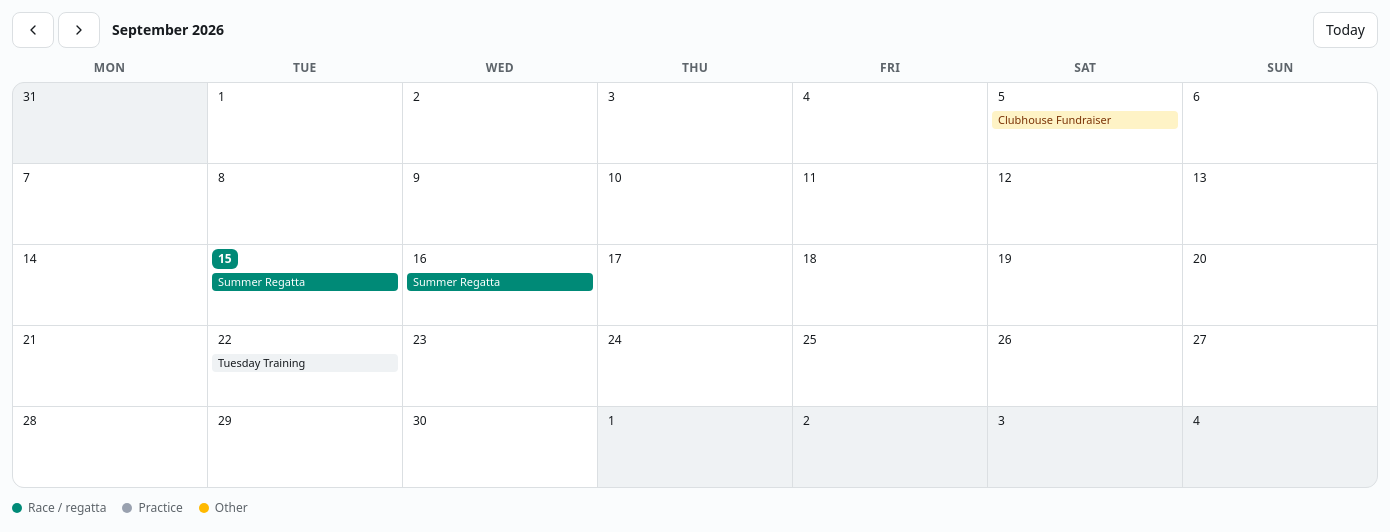
Test: EventsCalendar › shows only the month on screen, and navigates to the next
This screenshot has width=1390, height=532.
Expected: the link "October Cup" is not shown
Click the button named "Next month" at [79, 30], box [58,12,100,48]
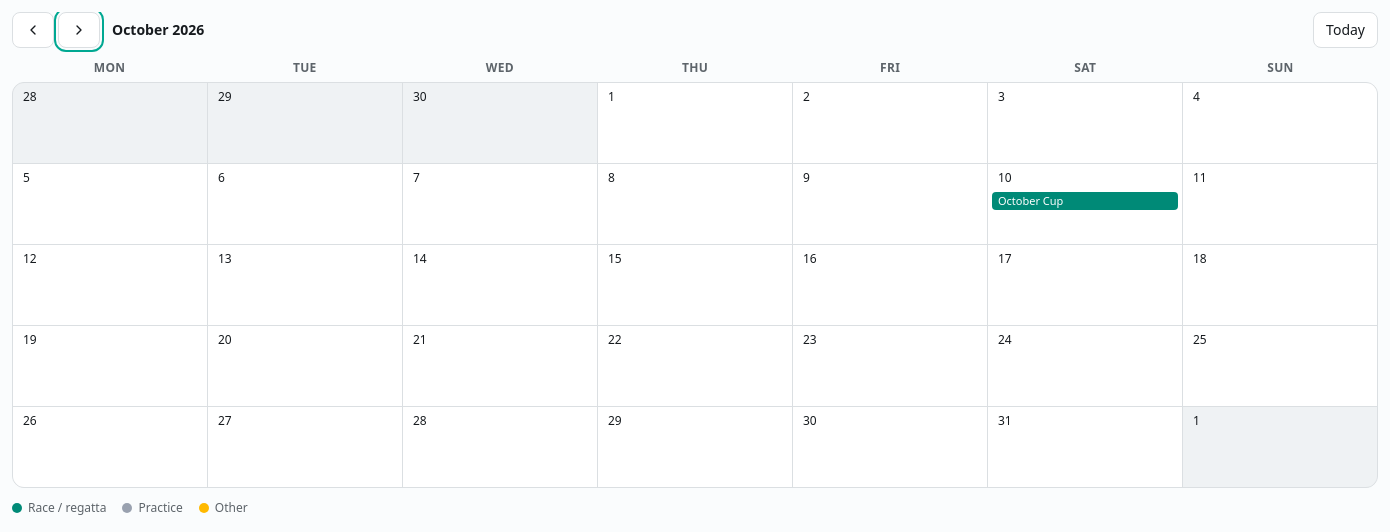
Expected: the link "October Cup" is shown, [992,192,1178,210]
Expected: the link "Clubhouse Fundraiser" is gone
